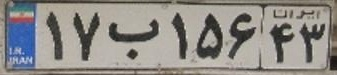character: (106, 14, 163, 62), (226, 5, 259, 66), (192, 6, 226, 65), (69, 9, 102, 65), (41, 8, 68, 64), (164, 8, 191, 62), (297, 21, 328, 66), (268, 19, 296, 66)
